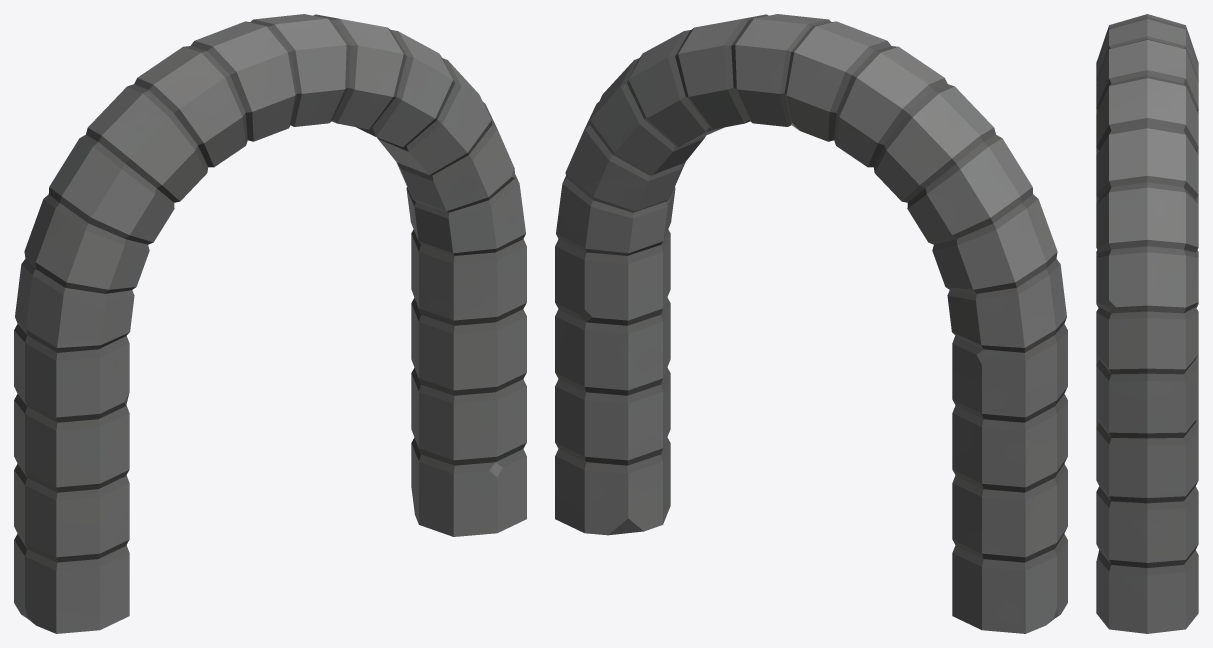
File: Arch_3.fbx
The picture shows the model from 3 angles, left to right: view 1: azimuth 30°, elevation 25°; view 2: azimuth 150°, elevation 25°; view 3: azimuth 270°, elevation 25°; orthographic projection. The views are drawn at different scales.
Visible parts, largest first — view 1: Arch 3; view 2: Arch 3; view 3: Arch 3.
Part boxes in pixels (x1=…): Arch 3: x1=14, y1=14, x2=526, y2=633; Arch 3: x1=555, y1=14, x2=1067, y2=633; Arch 3: x1=1096, y1=14, x2=1198, y2=633.
Size of the model in its own units: 231 by 241 by 45.95.
